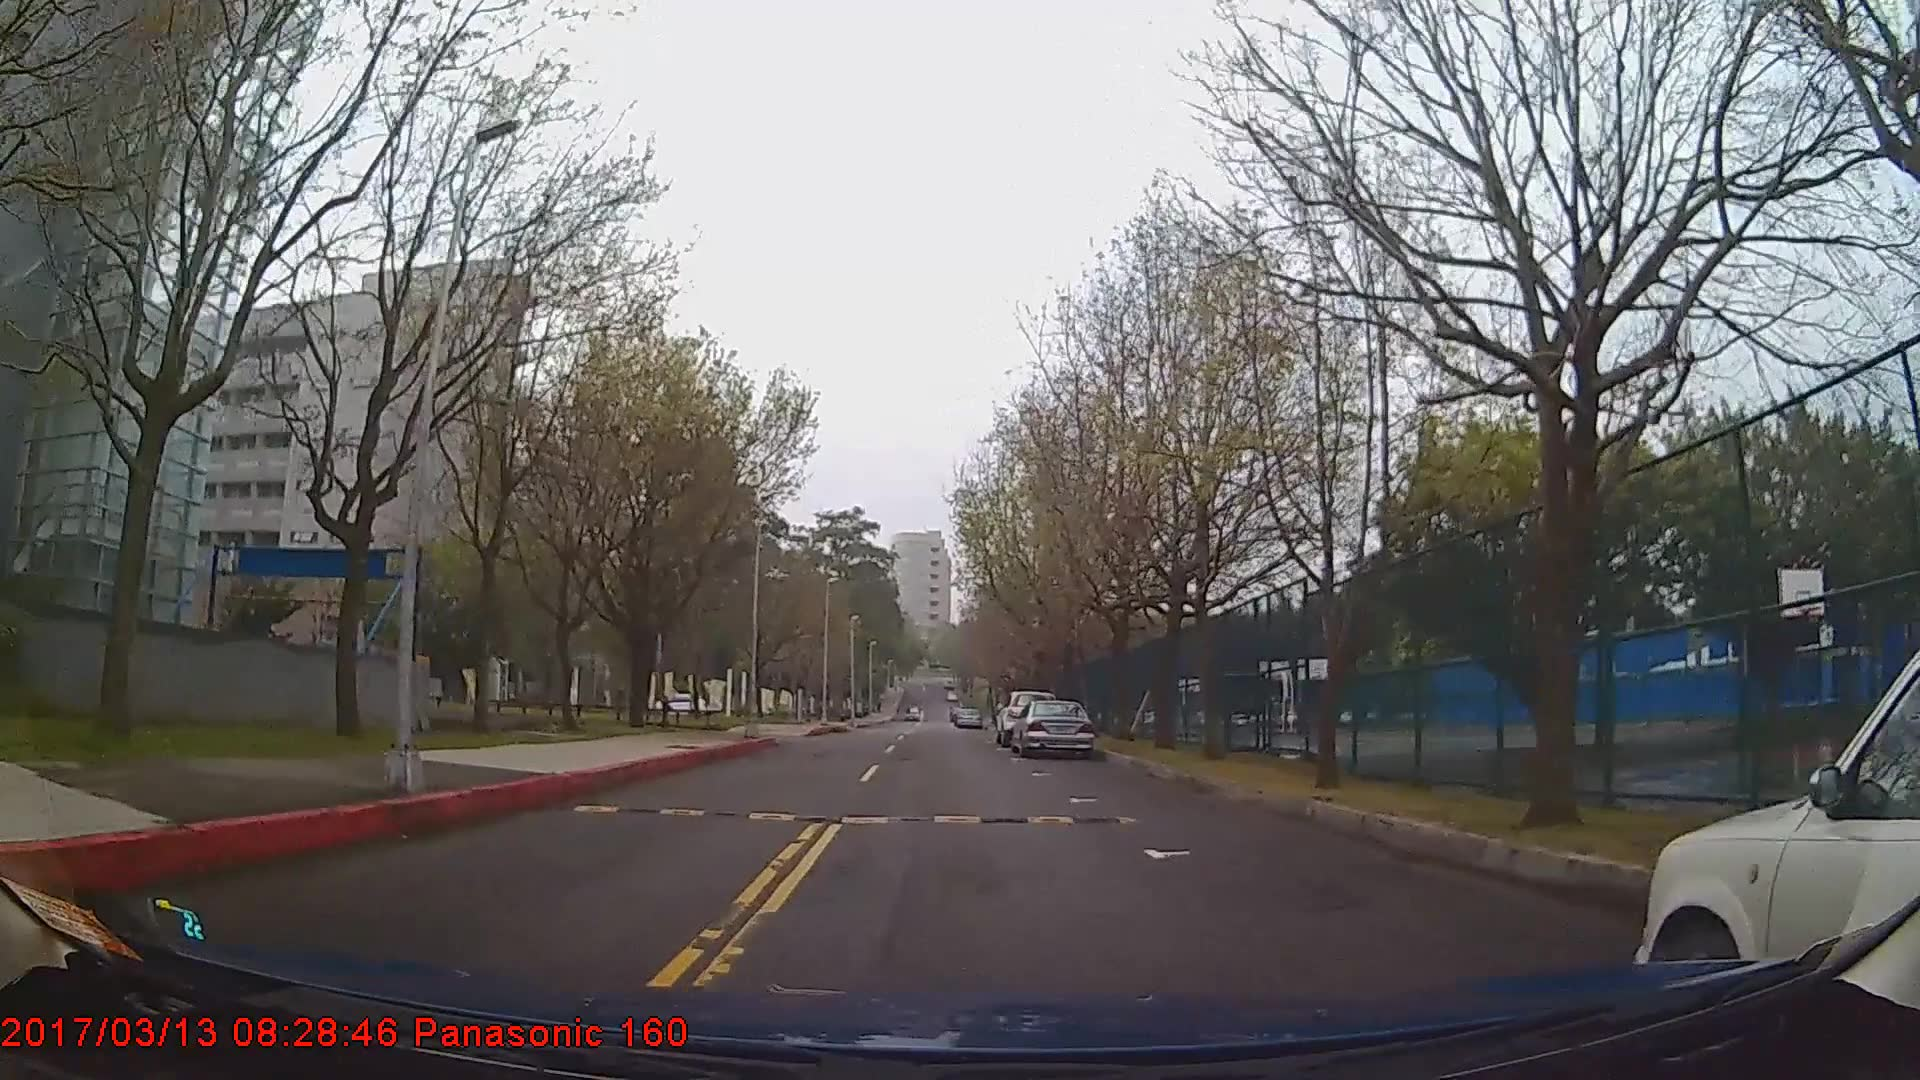vehicle: (1634, 647, 1917, 1018), (1007, 696, 1095, 756), (951, 704, 986, 731)
